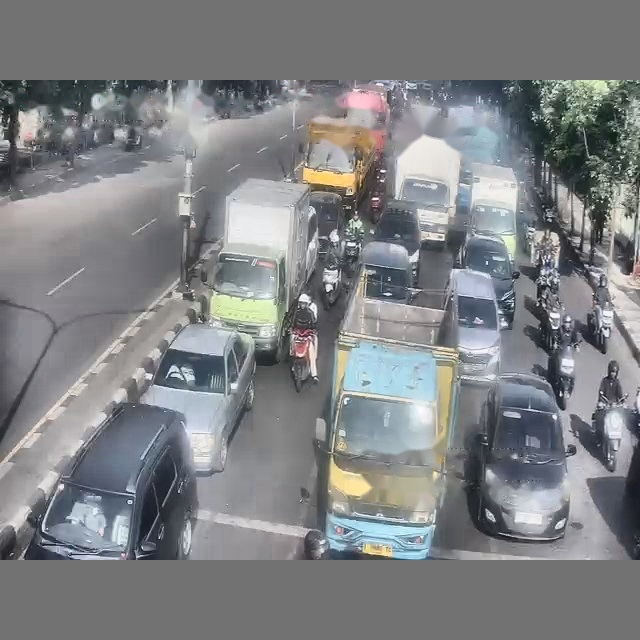Mobil: (24, 403, 197, 559), (141, 324, 255, 473), (476, 373, 576, 540), (443, 269, 501, 383), (455, 235, 519, 328), (372, 200, 420, 285)
Motor: (592, 394, 627, 471), (549, 341, 579, 409), (290, 329, 314, 391), (587, 302, 613, 353), (540, 298, 562, 353), (321, 261, 341, 309), (344, 233, 361, 266)
Truk: (314, 269, 459, 559), (203, 178, 309, 361), (302, 116, 376, 217), (393, 135, 461, 243), (470, 163, 517, 261)
